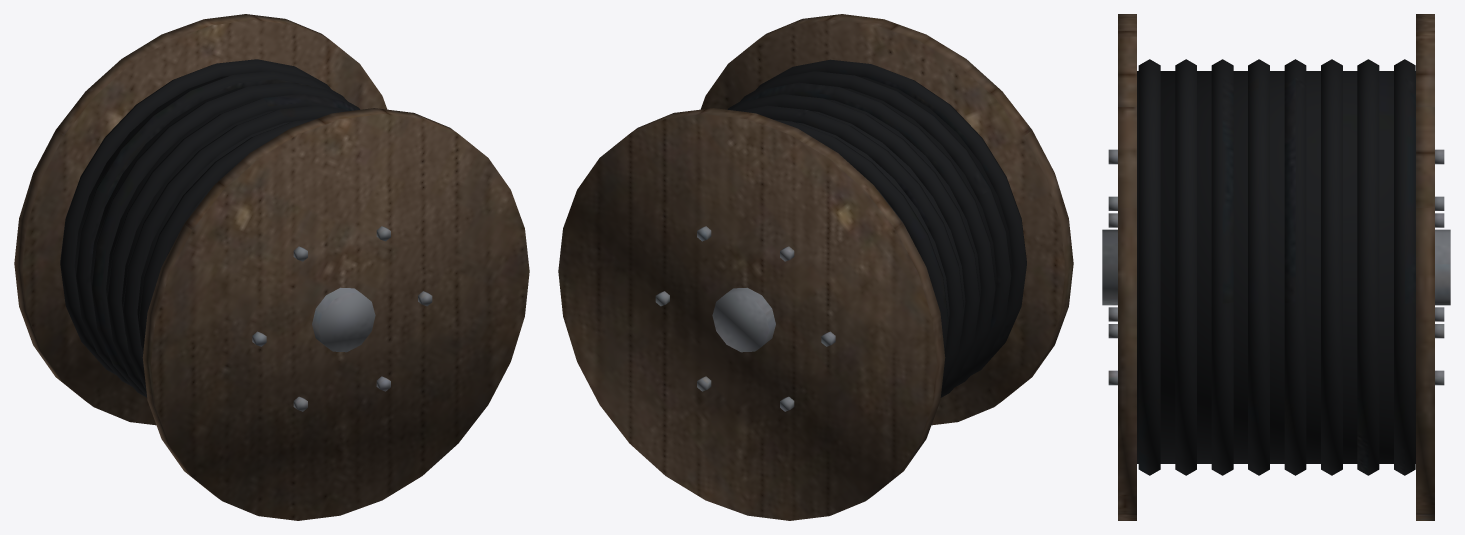
The model's file is cable_spool.glb.
3 views of the same model, side by side, from view 1: azimuth 30°, elevation 25°; view 2: azimuth 150°, elevation 25°; view 3: azimuth 270°, elevation 25° (orthographic). The views are drawn at different scales.
Parts seen in each view (by area): view 1: cable_spool; view 2: cable_spool; view 3: cable_spool.
Boxes of the visible parts, x1,y1,x2,y2 form: cable_spool: (14, 14, 529, 520); cable_spool: (558, 14, 1073, 520); cable_spool: (1102, 14, 1450, 520).
Bounding box in the file's own units: 1.6 × 1.6 × 1.1.
1 material, 1 textured.
